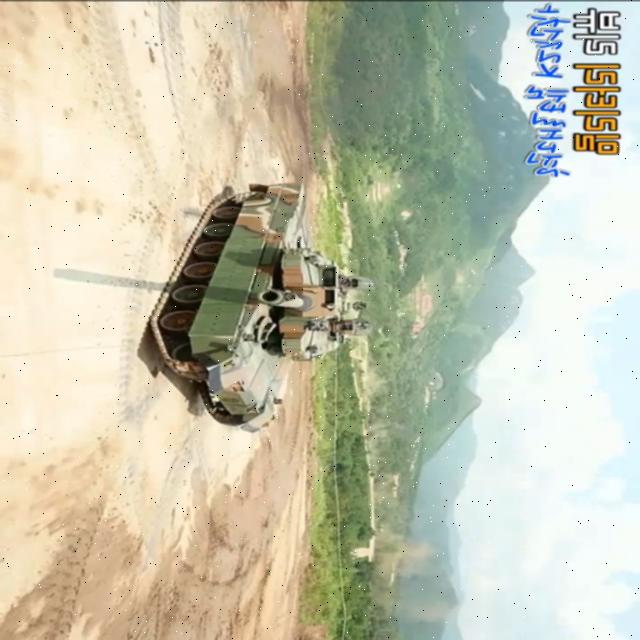korea tank: (152, 181, 372, 433)
